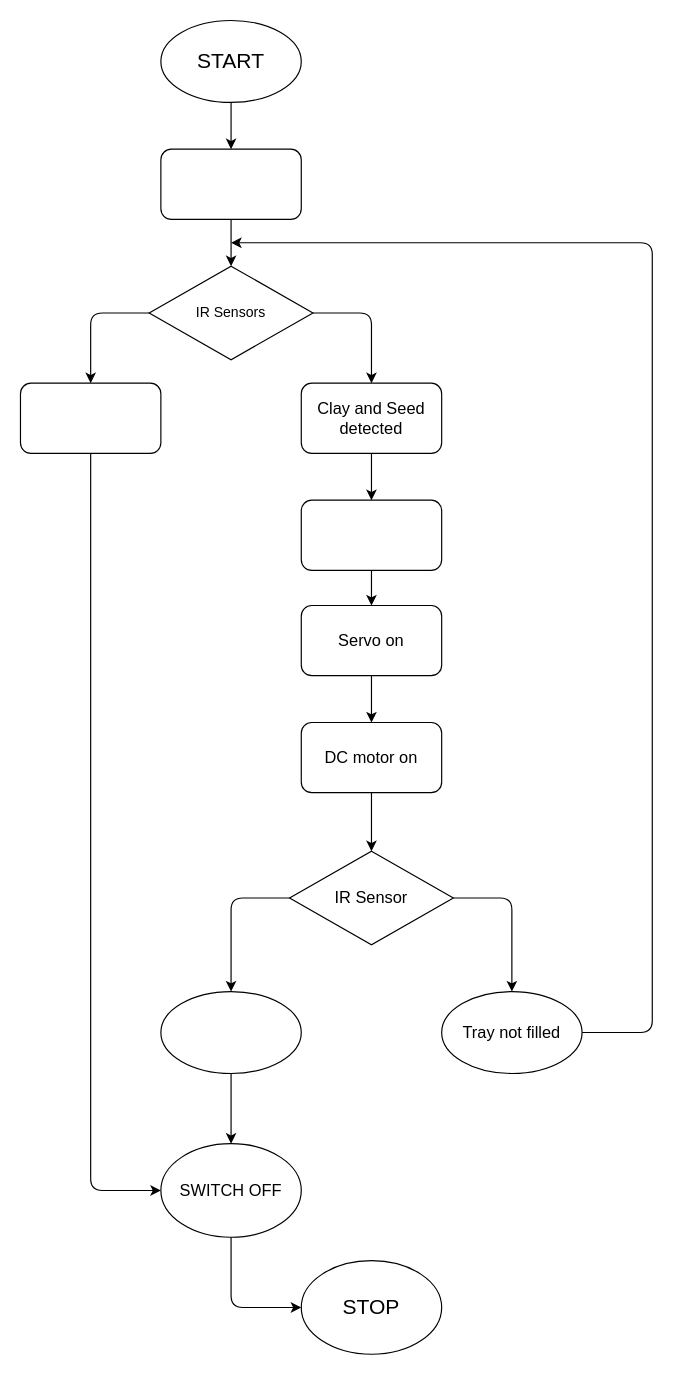
The diagram is 682 pixels wide and 1375 high, and some of its shapes have lost their labels. Each missing label, with the centre of its shape:
Clay and Seeds not detected: the point at 90,417
LED glows: the point at 371,534
SWITCH ON: the point at 230,183
Tray filled: the point at 230,1031
